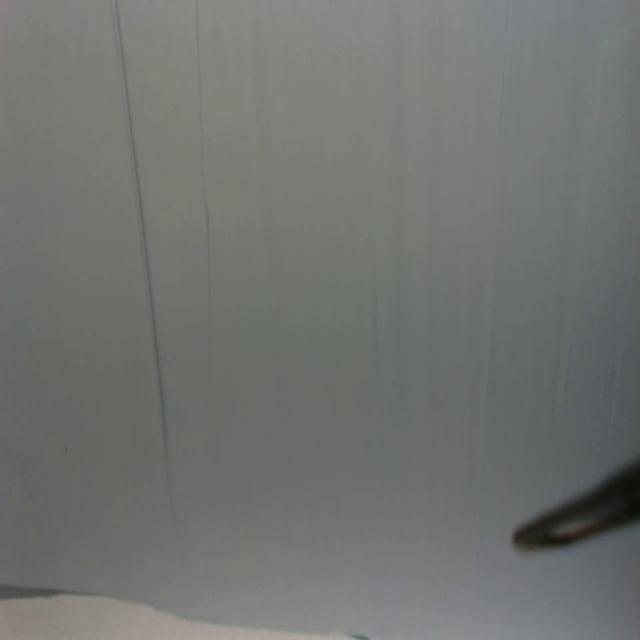crease: (109, 0, 176, 518), (193, 0, 216, 378)
hole: (62, 443, 71, 456)
